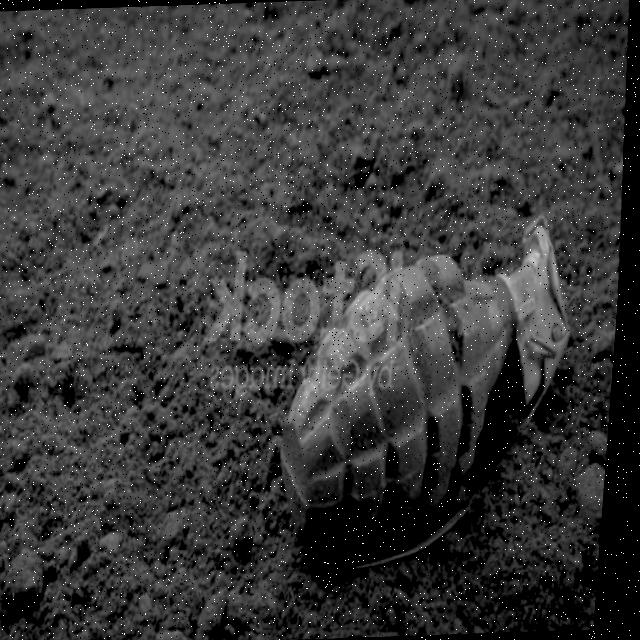grenade: (261, 200, 602, 578)
